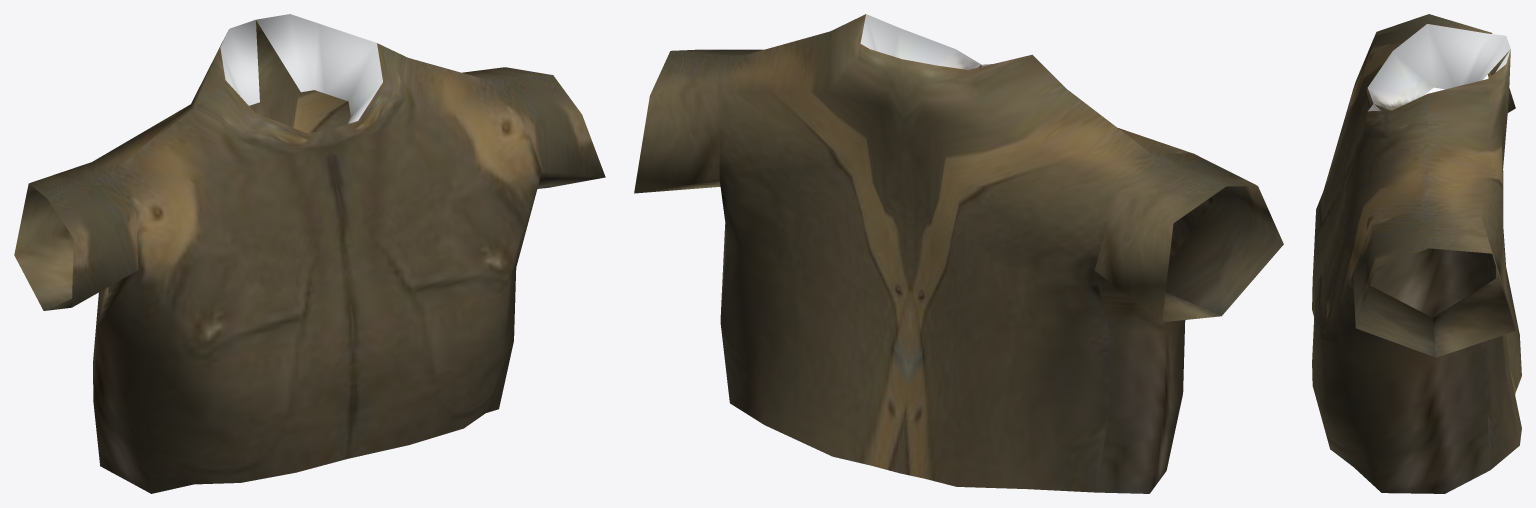
File: top2.fbx
3 renders of one model, left to right at view 1: azimuth 30°, elevation 25°; view 2: azimuth 150°, elevation 25°; view 3: azimuth 270°, elevation 25°, orthographic. The views are drawn at different scales.
Parts seen in each view (by area): view 1: Mesh_001; view 2: Mesh_001; view 3: Mesh_001.
Part boxes in pixels (box(x1,y1,x2,y2)): Mesh_001: box(14, 14, 605, 493); Mesh_001: box(634, 14, 1283, 493); Mesh_001: box(1312, 14, 1521, 493).
Bounding box in the file's own units: 11.11 × 7.6 × 3.99.
